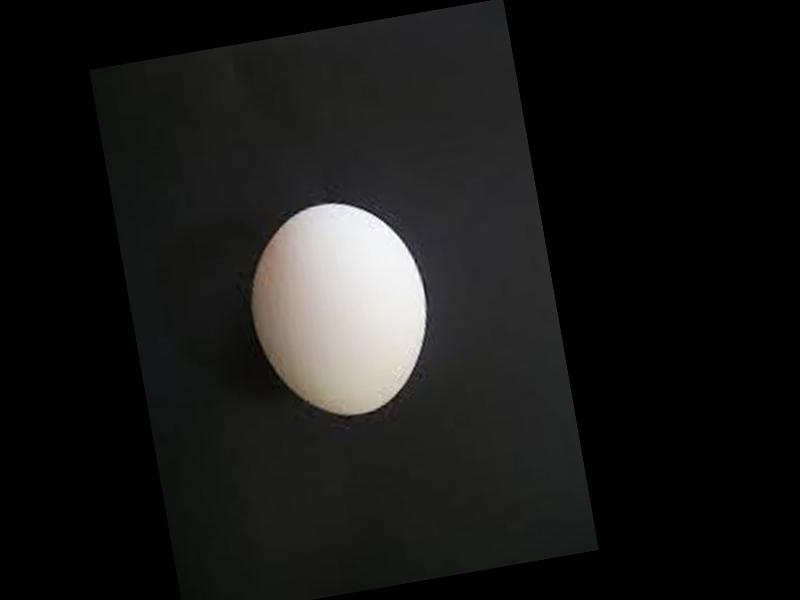Eggs: (238, 195, 443, 431)
